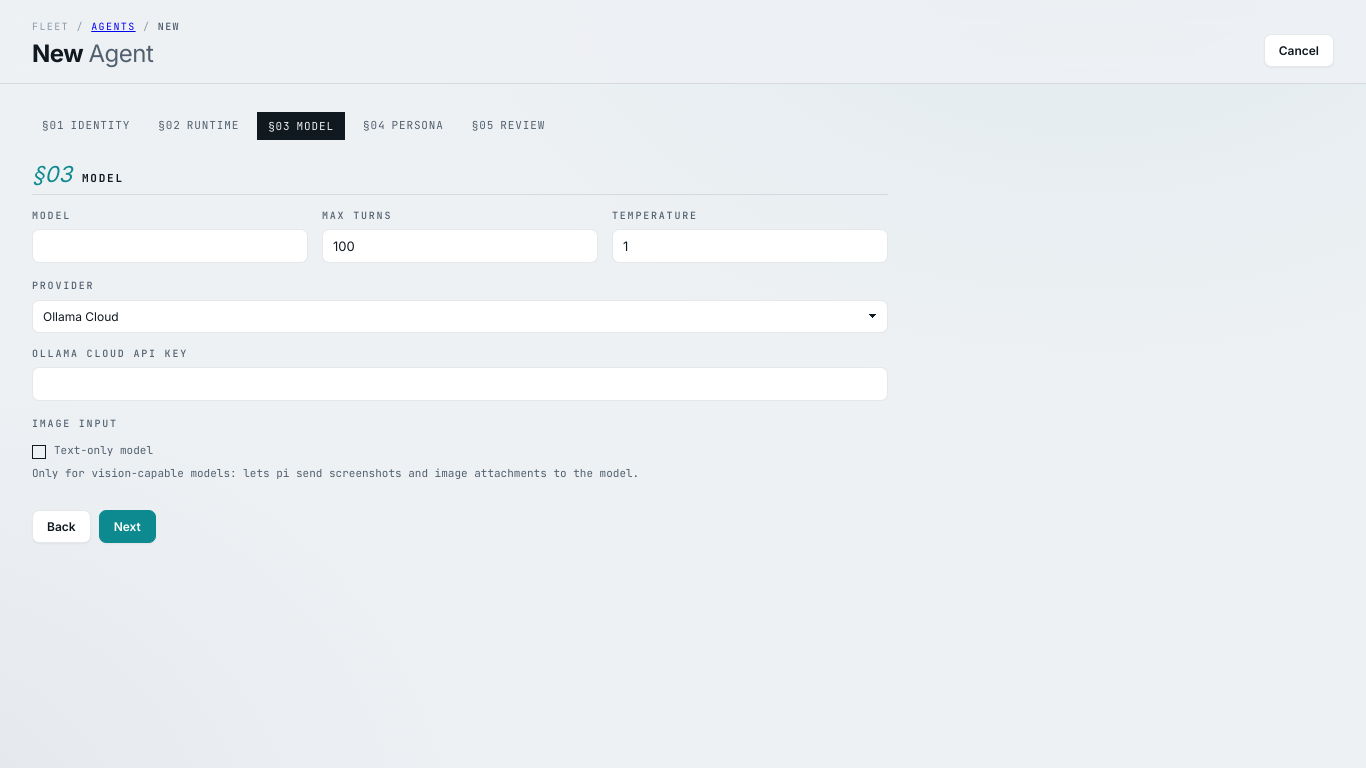
Test: AgentWizard › validates the model step before letting the user move on
Select "Custom" in the dropdown labelled "Provider": [460, 316] box [32,300,888,333]
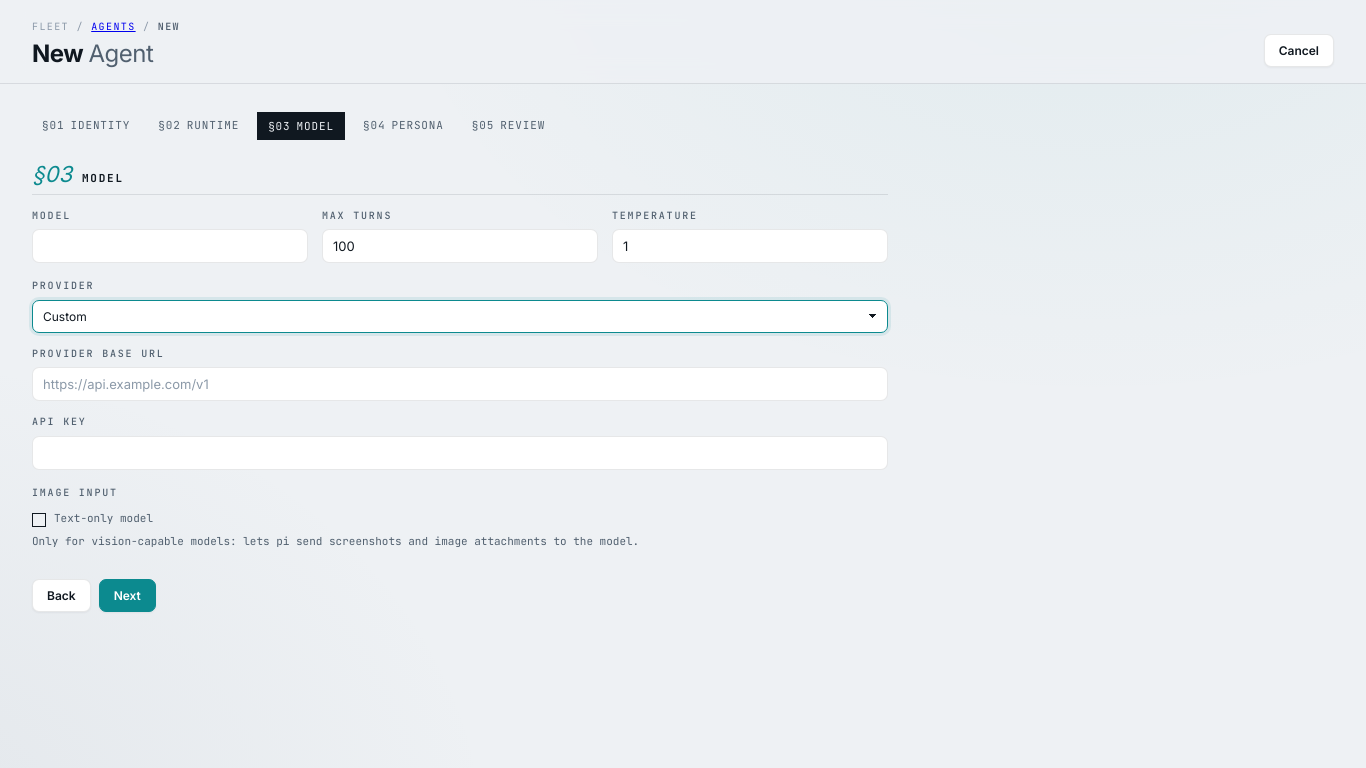
In the password field labelled "API Key": [460, 453] box [32,436,888,470], type "sk-test-12345"
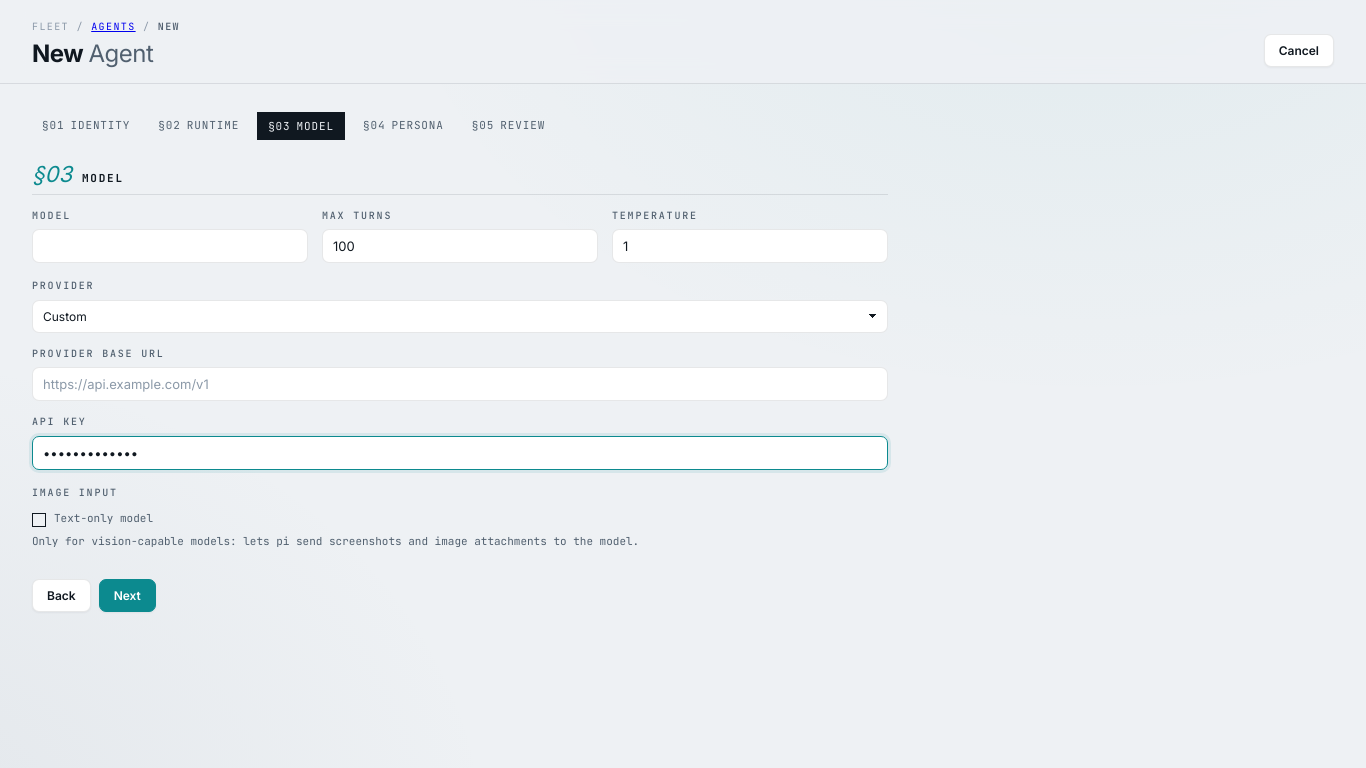
Click the button "Next": [127, 595] box [99,579,156,612]
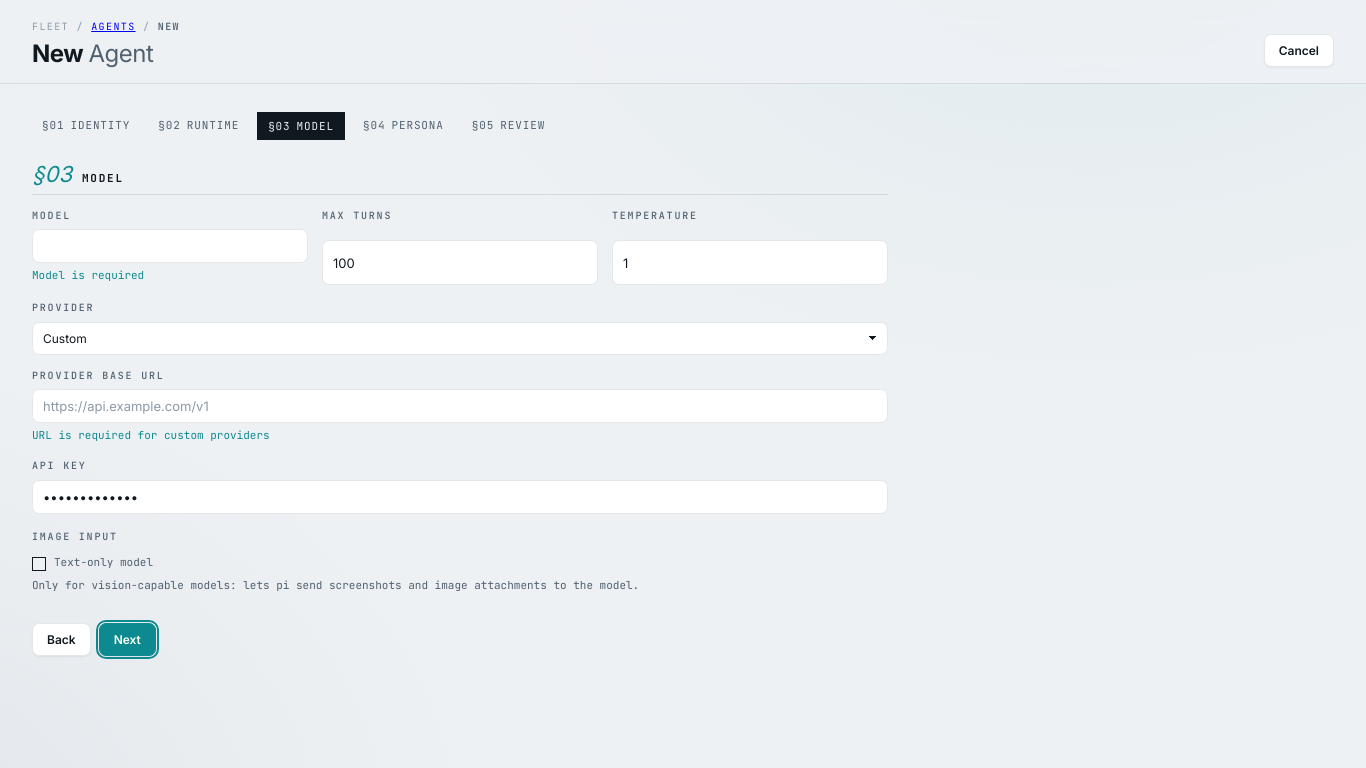
Now the text "Model is required" is shown, box [32,269,144,283]
Now the text "URL is required for custom providers" is shown, box [32,429,270,443]
